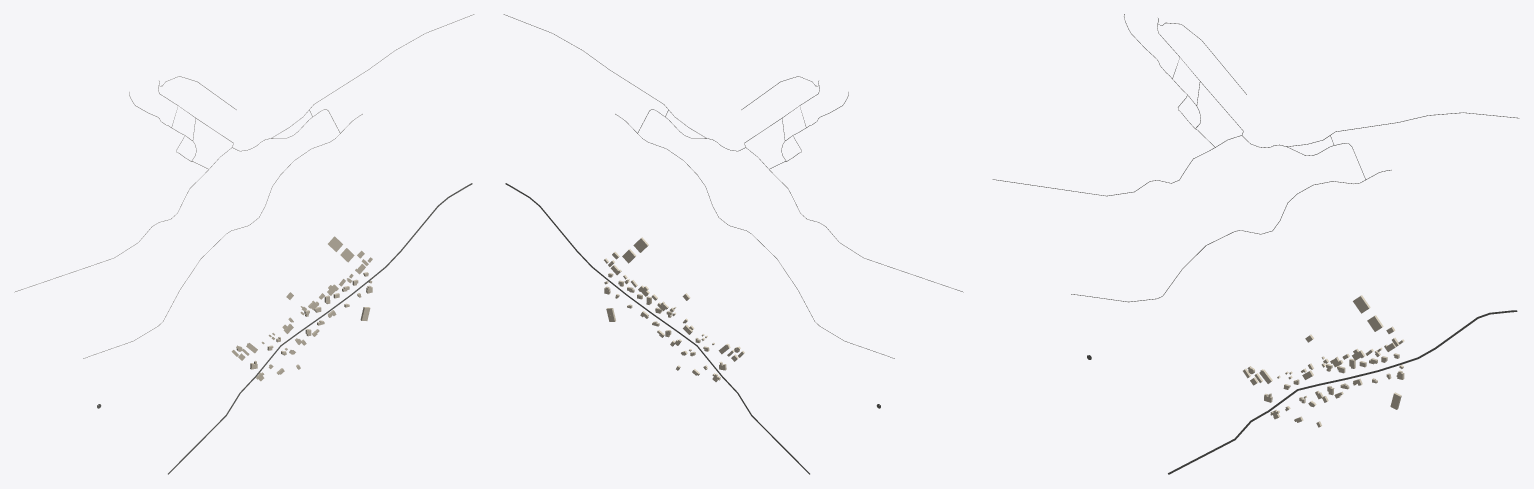
The model's file is historic-palestine-08_31_3498_3253.glb.
3 views of the same model, side by side, from view 1: azimuth 30°, elevation 25°; view 2: azimuth 150°, elevation 25°; view 3: azimuth 330°, elevation 25° (orthographic). The views are drawn at different scales.
Parts seen in each view (by area): view 1: Road; view 2: Road; view 3: Road.
Boxes of the visible parts, left/top/right/bottom form: Road: left=168, top=183, right=472, bottom=474; Road: left=505, top=183, right=809, bottom=474; Road: left=1168, top=310, right=1517, bottom=474.
Bounding box in the file's own units: 1576 × 1298 × 8.7.
